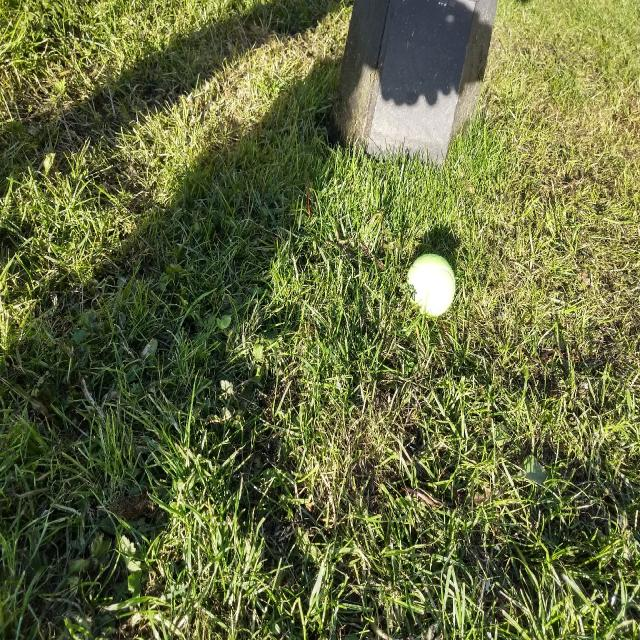ball: (406, 253, 456, 317)
